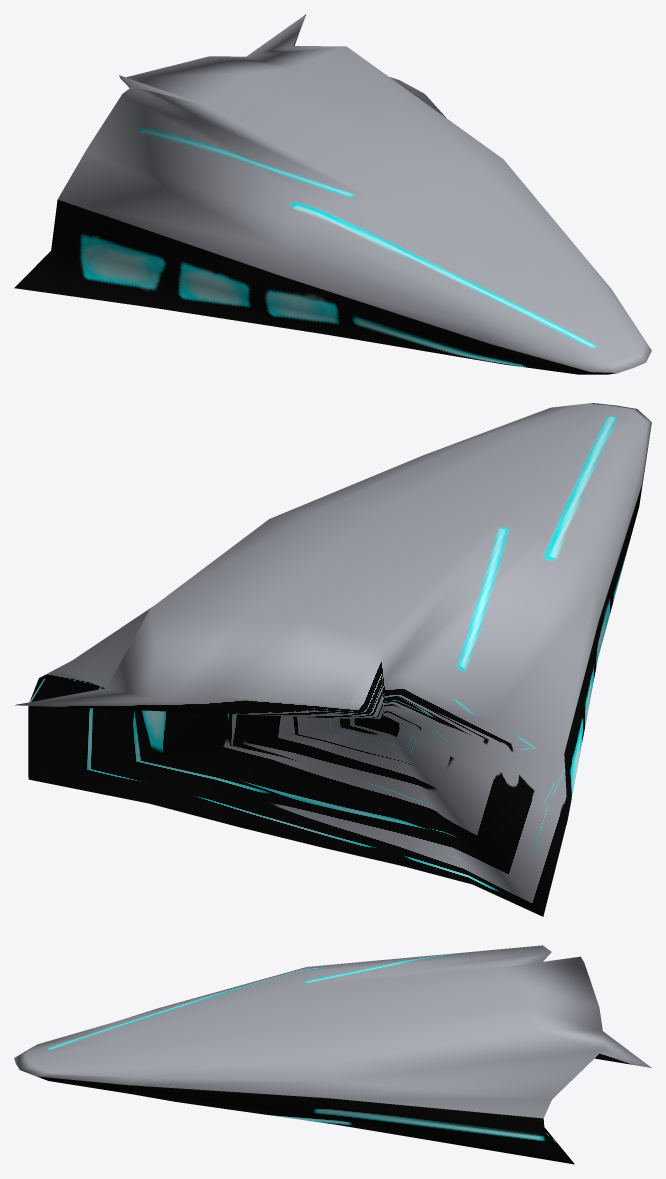
File: Ship3.fbx
The picture shows the model from 3 angles, top to bottom: view 1: azimuth 30°, elevation 25°; view 2: azimuth 150°, elevation 25°; view 3: azimuth 270°, elevation 25°; orthographic projection. The views are drawn at different scales.
Parts seen in each view (by area): view 1: Cube.002; view 2: Cube.002; view 3: Cube.002.
Part boxes in pixels (bbox=[...]): Cube.002: bbox=[14, 14, 651, 374]; Cube.002: bbox=[15, 403, 651, 916]; Cube.002: bbox=[14, 945, 651, 1164].
Size of the model in its own units: 380 by 644 by 169.
